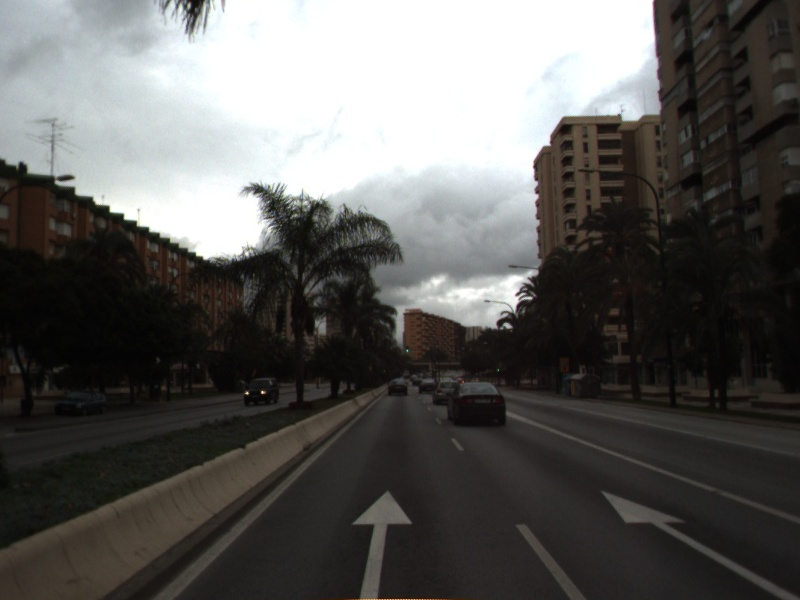STRAIGHT: (595, 485, 800, 600), (347, 486, 416, 600)
